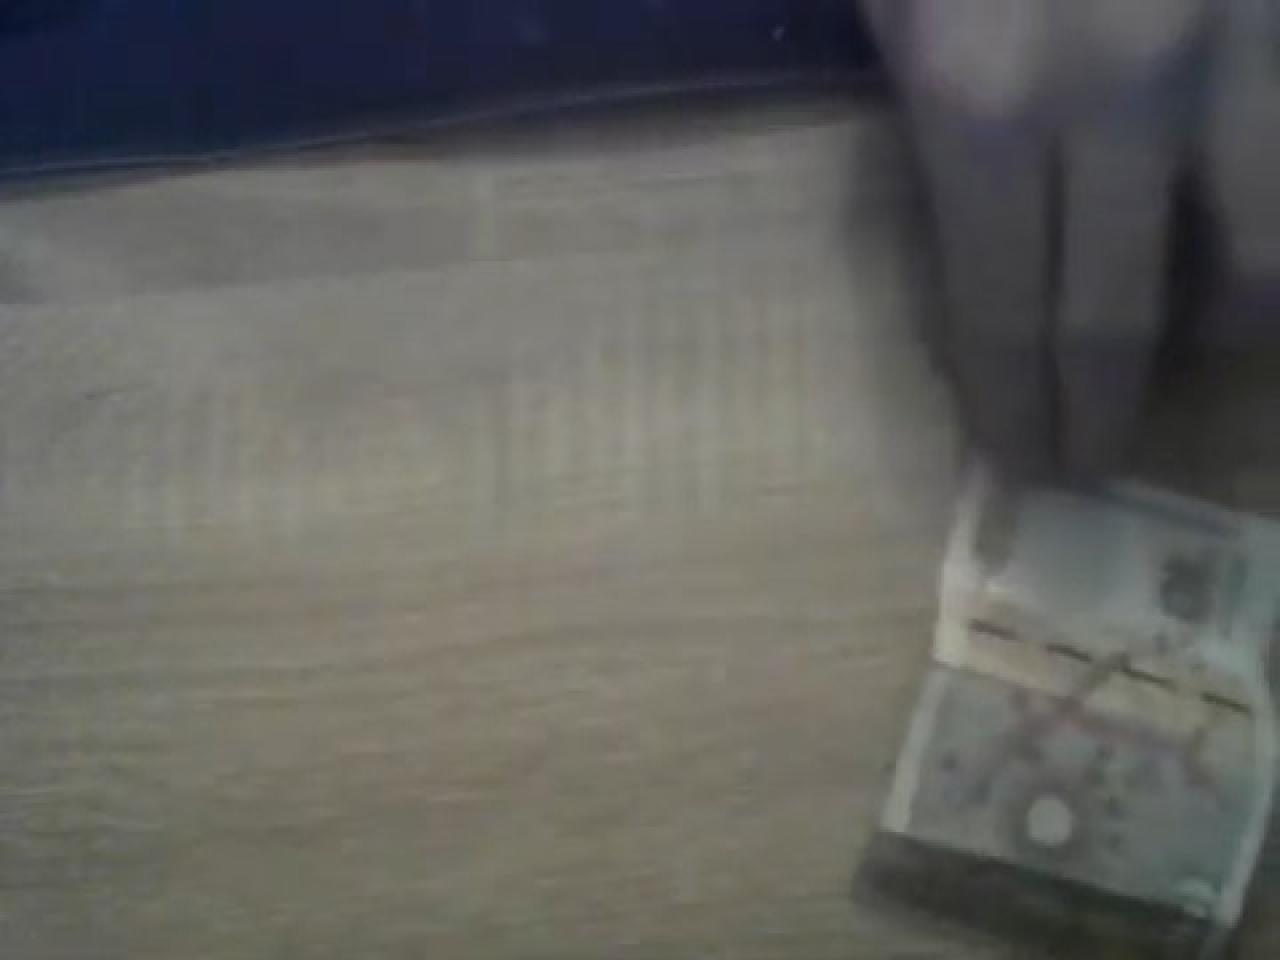10leva: (854, 0, 1280, 960)
